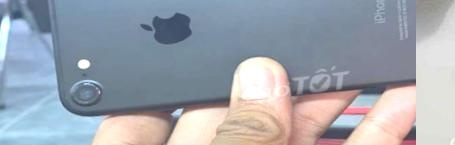scratch: (59, 76, 107, 112)
